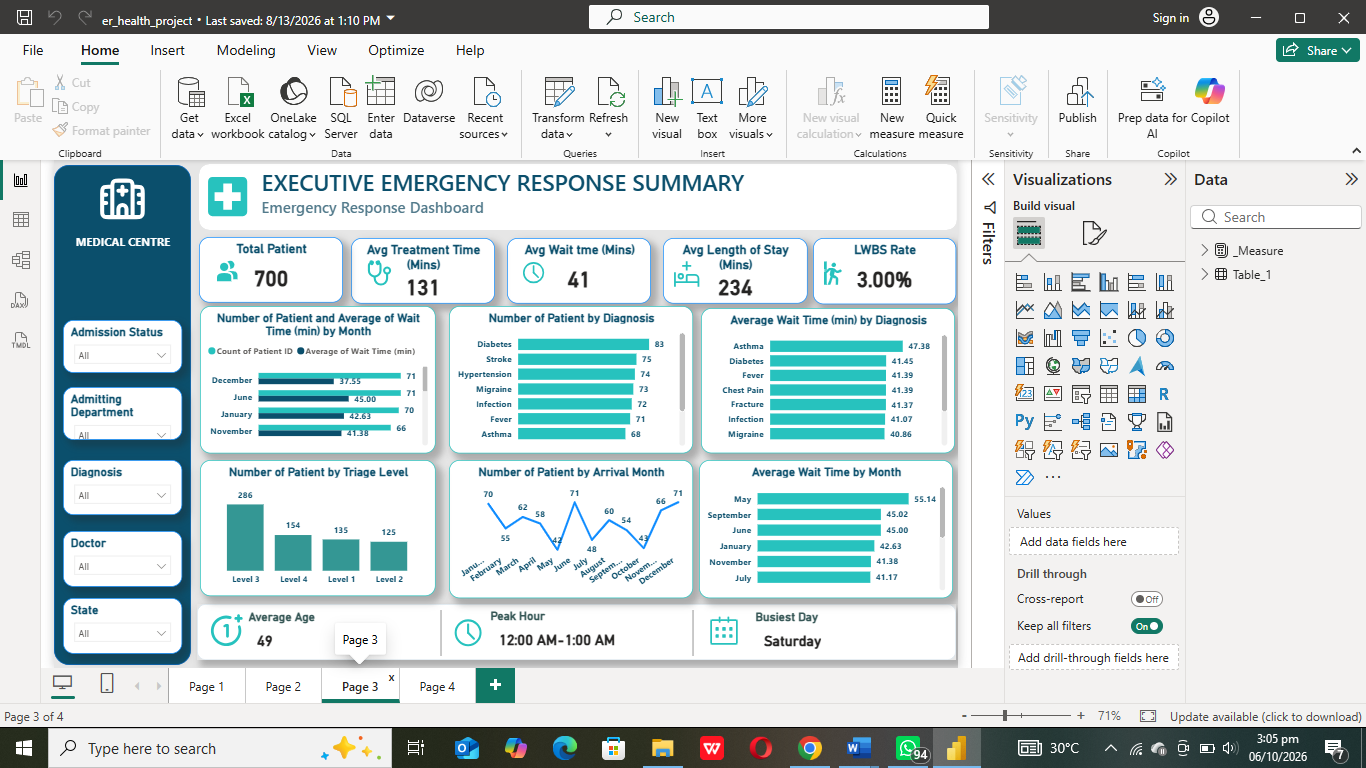

The dashboard page shown, as its layout file describes it:
{"tool":"powerbi","page":{"name":"Page 3","canvas":[1280,720],"ordinal":2},"visuals":[{"type":"group","id":"g1","title":"Group 1","box":[0,4,1279.5,712.1],"z":0},{"type":"shape","box":[205.1,5.9,1074.3,93.7],"z":0,"group":"g8"},{"type":"shape","box":[0,7.5,194.2,708.7],"z":0,"group":"g1"},{"type":"shape","box":[202.7,629.3,1075.7,79.4],"z":0,"group":"g5"},{"type":"group","id":"g2","title":"Group 6","box":[204.9,4,1074.5,200.1],"z":1000,"group":"g1"},{"type":"textbox","box":[288.9,4,959.5,93.5],"z":1000,"group":"g6"},{"type":"slicer","title":"Admission Status","fields":{"Values":["Table_1.Admission Status"]},"box":[12.8,226.8,168.7,75.1],"z":1000},{"type":"shape","box":[541.4,637.8,14.2,65.2],"z":1000,"group":"g7"},{"type":"image","box":[870.2,136.1,53.9,51],"z":2000,"group":"g1"},{"type":"slicer","title":"Admitting Department","fields":{"Values":["Table_1.Admiting Dept"]},"box":[12.8,321.7,168.7,75.1],"z":2000},{"type":"shape","box":[895.7,637.8,19.9,65.2],"z":2000,"group":"g7"},{"type":"slicer","title":"Doctor","fields":{"Values":["Table_1.Doctor"]},"box":[12.8,525.8,168.7,79.4],"z":3000},{"type":"cardVisual","title":"Average Age","fields":{"Data":["_Measure.Avg AGE"]},"box":[271,637.8,123.8,60.9],"z":3000,"group":"g7"},{"type":"slicer","title":"State","fields":{"Values":["Table_1.State"]},"box":[12.8,620.8,168.7,79.4],"z":4000},{"type":"cardVisual","title":"Peak Hour","fields":{"Data":["_Measure.Peak hour"]},"box":[613.9,636.4,224.8,60.9],"z":4000,"group":"g7"},{"type":"slicer","title":"Diagnosis","fields":{"Values":["Table_1.Diagnosis"]},"box":[12.8,425.2,168.7,78],"z":5000},{"type":"cardVisual","title":"Busiest Day","fields":{"Data":["_Measure.Busiest day"]},"box":[989.6,637.8,259,60.9],"z":5000,"group":"g7"},{"type":"group","id":"g3","title":"Group 3","box":[204.9,109.2,1073,95],"z":5001,"group":"g2"},{"type":"card","title":"Avg Wait tme (Mins)","fields":{"Values":["_Measure.Average_waittime"]},"box":[641.5,110.9,203.9,92.8],"z":6000,"group":"g3"},{"type":"image","box":[656.2,126.1,46.8,66.6],"z":6000},{"type":"card","title":"Avg Length of Stay (Mins)","fields":{"Values":["_Measure.avg length of stay"]},"box":[862.6,110,204.5,93.2],"z":7000,"group":"g3"},{"type":"image","box":[205.5,123.3,80.8,68],"z":7000},{"type":"group","id":"g4","title":"Group 5","box":[1080.3,138.6,45.4,42.5],"z":7000,"group":"g2"},{"type":"image","box":[1080.3,138.6,45.4,42.5],"z":7002,"group":"g4"},{"type":"card","title":"Avg Treatment Time (Mins)","fields":{"Values":["_Measure.Avg treatment time"]},"box":[420.3,110.9,203.9,93.2],"z":8000,"group":"g3"},{"type":"image","box":[430.9,129,60.9,62.4],"z":8000},{"type":"textbox","box":[19.8,99.2,155.9,42.5],"z":9000},{"type":"card","title":"Total Patient","fields":{"Values":["_Measure.Total Patient"]},"box":[204.9,109.2,203.9,93.2],"z":9000,"group":"g3"},{"type":"group","id":"g5","title":"Group 7","box":[202.7,629.3,1075.7,79.4],"z":10000},{"type":"image","box":[558.4,640.6,56.7,59.5],"z":11000},{"type":"image","box":[924.1,642,51,49.6],"z":12000},{"type":"group","id":"g6","title":"Group 4","box":[288.9,4,959.5,93.5],"z":12001,"group":"g8"},{"type":"image","box":[42.5,15.6,109.1,79.4],"z":13000},{"type":"card","title":"LWBS Rate","fields":{"Values":["_Measure.LWBS Rate"]},"box":[1075.2,110.4,202.7,93.5],"z":13000,"group":"g3"},{"type":"group","id":"g7","title":"Group 8","box":[271,636.4,977.6,66.6],"z":13005,"group":"g5"},{"type":"image","box":[204.1,9.9,83.6,83.6],"z":14000},{"type":"image","box":[215.4,637.8,56.7,59.5],"z":15000},{"type":"group","id":"g8","title":"Group 2","box":[205.1,4,1074.3,95.6],"z":15001,"group":"g2"},{"type":"clusteredBarChart","title":"Number of Patient and Average of Wait Time (min) by Month","fields":{"Category":["Table_1.Month"],"Y":["CountNonNull(Table_1.Patient ID)","Avg(Table_1.Wait Time (min))"]},"box":[207.4,207.4,334.1,208.8],"z":16000},{"type":"clusteredBarChart","title":"Number of Patient by Diagnosis","fields":{"Category":["Table_1.Diagnosis"],"Y":["CountNonNull(Table_1.Patient ID)"]},"box":[560.2,207.4,345.6,209.2],"z":17000},{"type":"clusteredBarChart","title":"Average Wait Time (min) by Diagnosis","fields":{"Category":["Table_1.Diagnosis"],"Y":["Avg(Table_1.Wait Time (min))"]},"box":[917.3,210.2,360,205.9],"z":18000},{"type":"lineChart","title":"Number of Patient by Arrival Month","fields":{"Category":["Table_1.Arrival Date.Variation.Date Hierarchy.Month"],"Y":["CountNonNull(Table_1.Patient ID)"]},"box":[560.2,424.8,345.6,195.8],"z":19000},{"type":"columnChart","title":"Number of Patient by Triage Level","fields":{"Category":["Table_1.Triage Level"],"Y":["CountNonNull(Table_1.Patient ID)"]},"box":[207.4,424.8,334.1,193],"z":20000},{"type":"clusteredBarChart","title":"Average Wait Time by Month","fields":{"Category":["Table_1.Arrival Date.Variation.Date Hierarchy.Month"],"Y":["Avg(Table_1.Wait Time (min))"]},"box":[914.4,424.8,360,195.8],"z":21000}]}

Visuals, with their boxes on the page's 1280x720 design canvas (x1, y1, x2, y2). These are canvas units, not pixel positions in the 1366x768 screenshot, which may show the page scaled, cropped or inside an application window:
"Group 1" group: select_region(0, 4, 1280, 716)
shape: select_region(205, 6, 1279, 100)
shape: select_region(0, 8, 194, 716)
shape: select_region(203, 629, 1278, 709)
"Group 6" group: select_region(205, 4, 1279, 204)
textbox: select_region(289, 4, 1248, 98)
"Admission Status" slicer: select_region(13, 227, 182, 302)
shape: select_region(541, 638, 556, 703)
image: select_region(870, 136, 924, 187)
"Admitting Department" slicer: select_region(13, 322, 182, 397)
shape: select_region(896, 638, 916, 703)
"Doctor" slicer: select_region(13, 526, 182, 605)
"Average Age" cardVisual: select_region(271, 638, 395, 699)
"State" slicer: select_region(13, 621, 182, 700)
"Peak Hour" cardVisual: select_region(614, 636, 839, 697)
"Diagnosis" slicer: select_region(13, 425, 182, 503)
"Busiest Day" cardVisual: select_region(990, 638, 1249, 699)
"Group 3" group: select_region(205, 109, 1278, 204)
"Avg Wait tme (Mins)" card: select_region(642, 111, 845, 204)
image: select_region(656, 126, 703, 193)
"Avg Length of Stay (Mins)" card: select_region(863, 110, 1067, 203)
image: select_region(206, 123, 286, 191)
"Group 5" group: select_region(1080, 139, 1126, 181)
image: select_region(1080, 139, 1126, 181)
"Avg Treatment Time (Mins)" card: select_region(420, 111, 624, 204)
image: select_region(431, 129, 492, 191)
textbox: select_region(20, 99, 176, 142)
"Total Patient" card: select_region(205, 109, 409, 202)
"Group 7" group: select_region(203, 629, 1278, 709)
image: select_region(558, 641, 615, 700)
image: select_region(924, 642, 975, 692)
"Group 4" group: select_region(289, 4, 1248, 98)
image: select_region(42, 16, 152, 95)
"LWBS Rate" card: select_region(1075, 110, 1278, 204)
"Group 8" group: select_region(271, 636, 1249, 703)
image: select_region(204, 10, 288, 94)
image: select_region(215, 638, 272, 697)
"Group 2" group: select_region(205, 4, 1279, 100)
"Number of Patient and Average of Wait Time (min) by Month" clusteredBarChart: select_region(207, 207, 542, 416)
"Number of Patient by Diagnosis" clusteredBarChart: select_region(560, 207, 906, 417)
"Average Wait Time (min) by Diagnosis" clusteredBarChart: select_region(917, 210, 1277, 416)
"Number of Patient by Arrival Month" lineChart: select_region(560, 425, 906, 621)
"Number of Patient by Triage Level" columnChart: select_region(207, 425, 542, 618)
"Average Wait Time by Month" clusteredBarChart: select_region(914, 425, 1274, 621)
